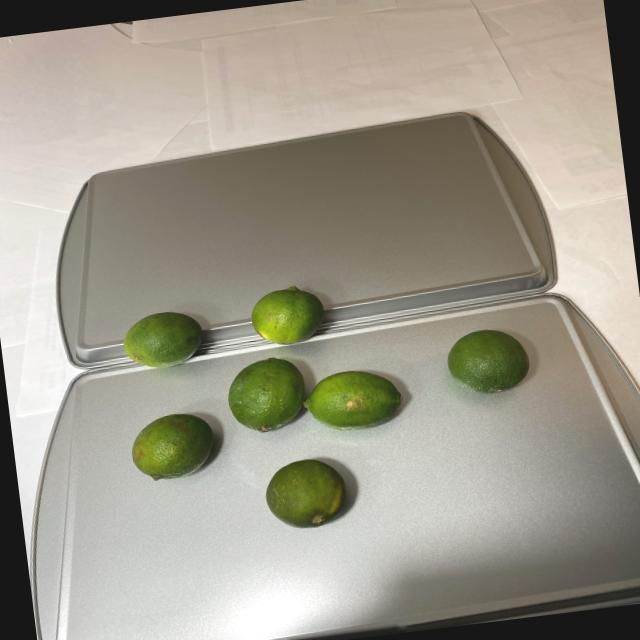lemon: (114, 256, 552, 553)
